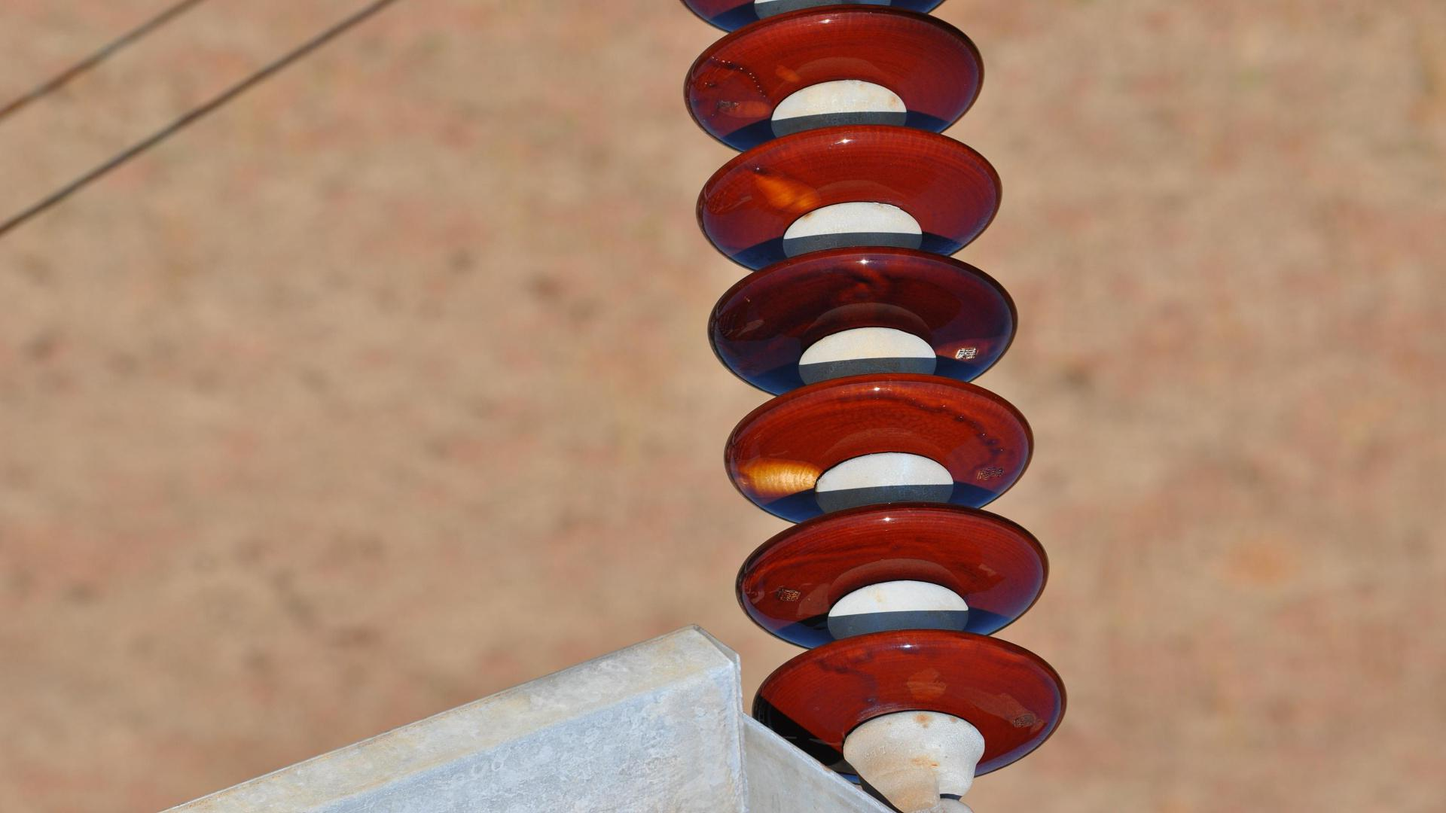insulator: (670, 1, 1075, 784)
insulator_flashover: (728, 455, 825, 507), (749, 170, 822, 217)
